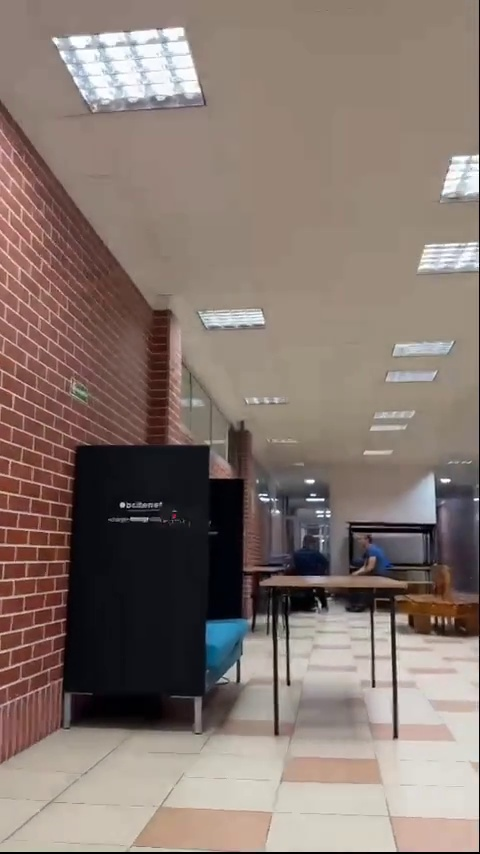drone: (162, 510, 190, 528)
no vest: (349, 533, 391, 573), (295, 533, 331, 576)
